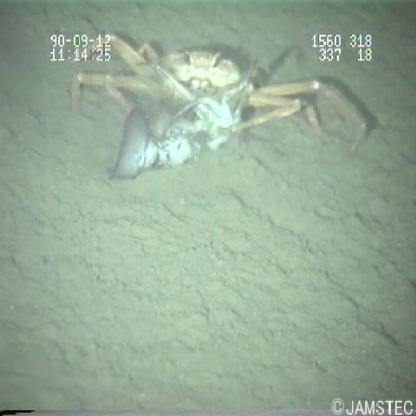Bio: (60, 30, 378, 198)
